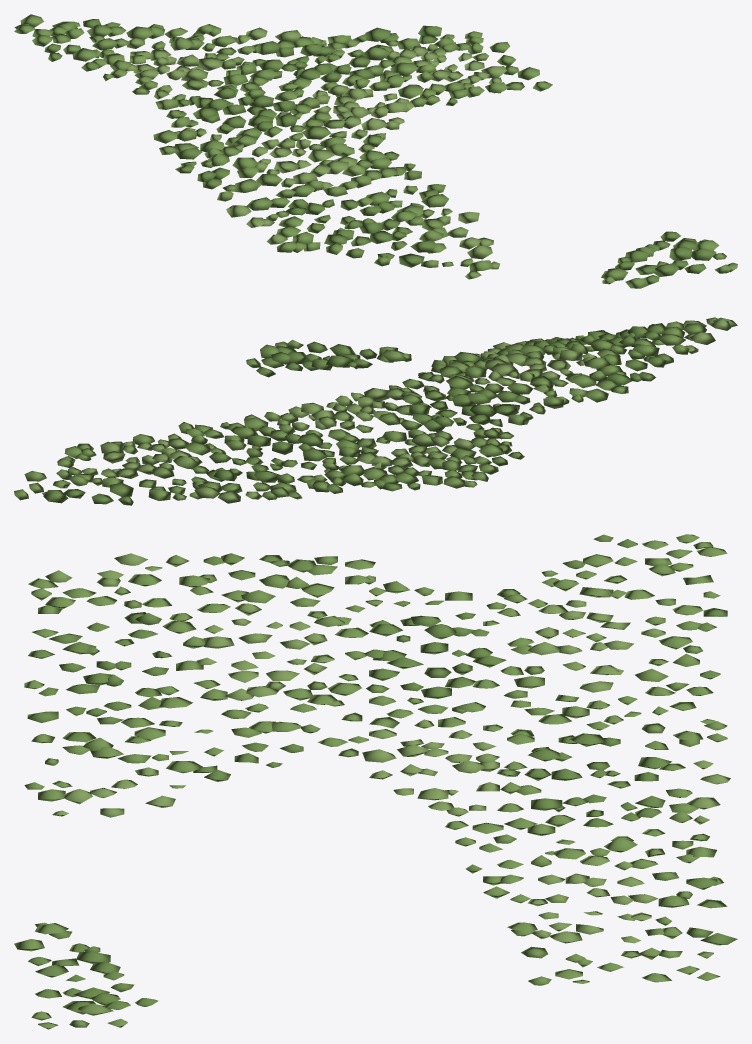
File: canopy-1--6--4.glb
3 views of the same model, one above another, from view 1: azimuth 30°, elevation 25°; view 2: azimuth 150°, elevation 25°; view 3: azimuth 270°, elevation 25° (orthographic). The views are drawn at different scales.
Size of the model in its own units: 518 by 172 by 525.
Materials: 1 (1 with a texture image).
